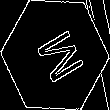M_SW: (26, 23, 84, 87)
